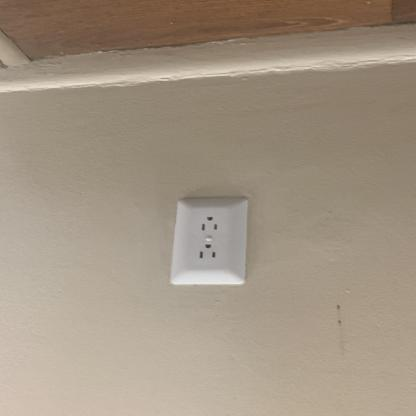OUTLET: (170, 196, 250, 287)
